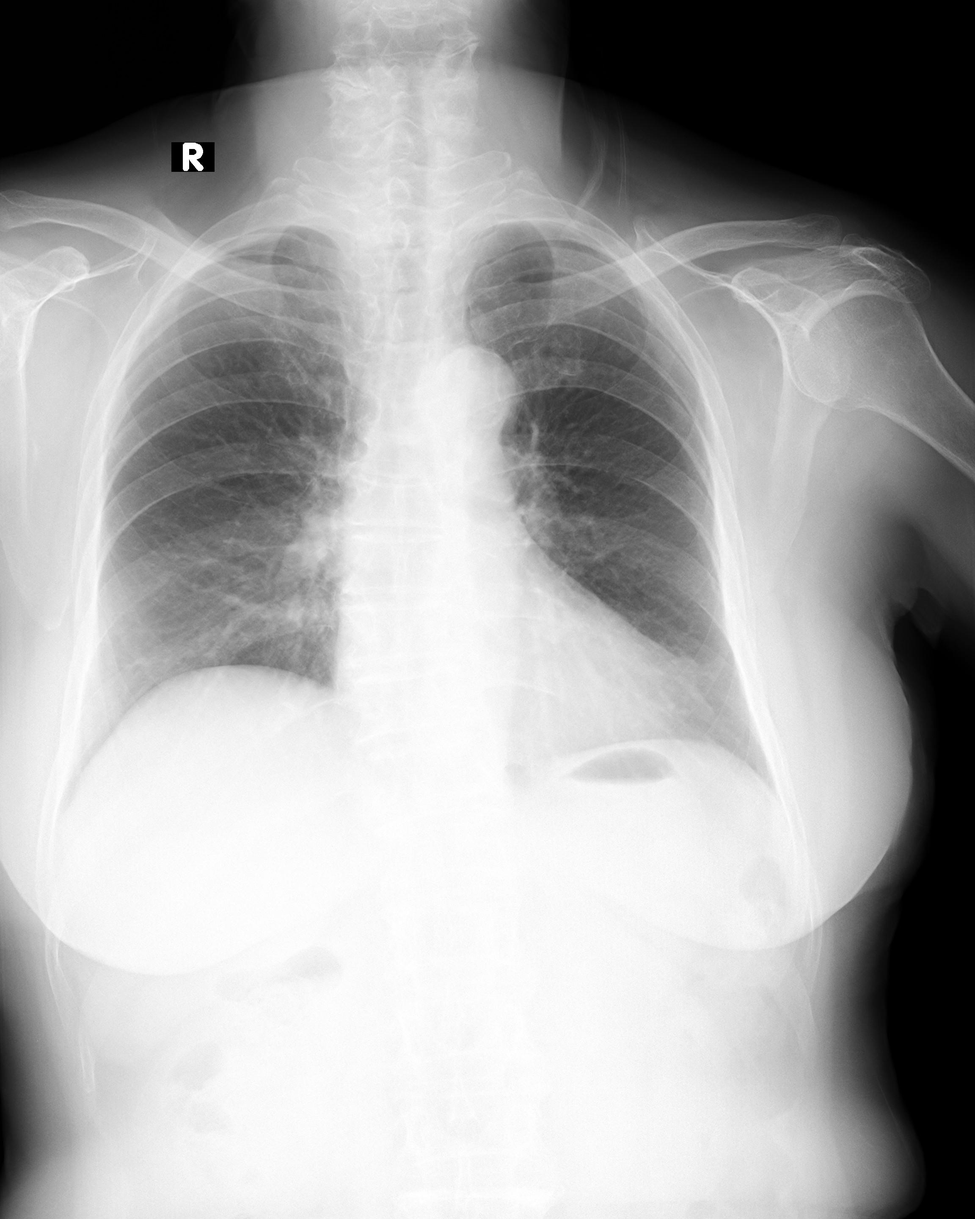Aortic enlargement: (418, 345, 519, 432)
Cardiomegaly: (325, 625, 700, 750)
Pleural thickening: (212, 221, 292, 255)
